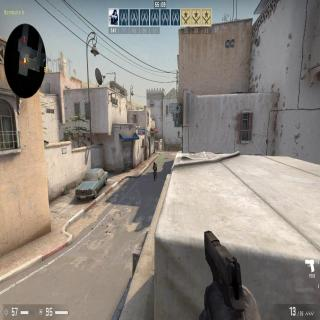CT-Body: (152, 161, 156, 179)
CT-Head: (153, 161, 155, 164)
